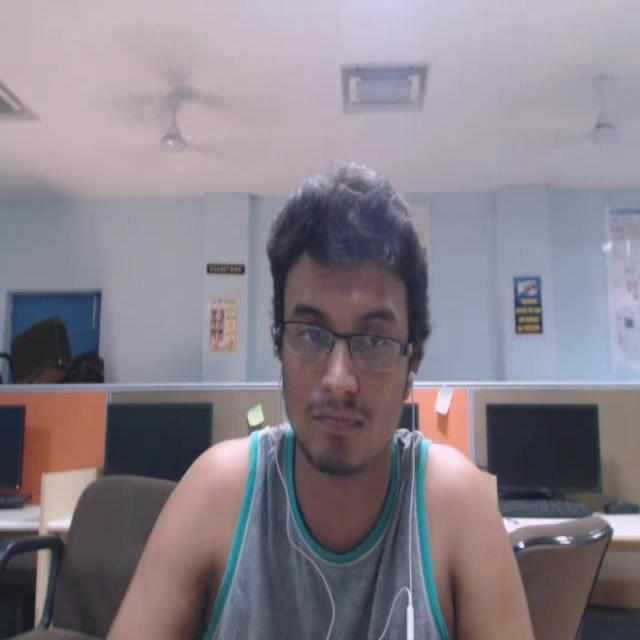Bored: (256, 137, 466, 503)
